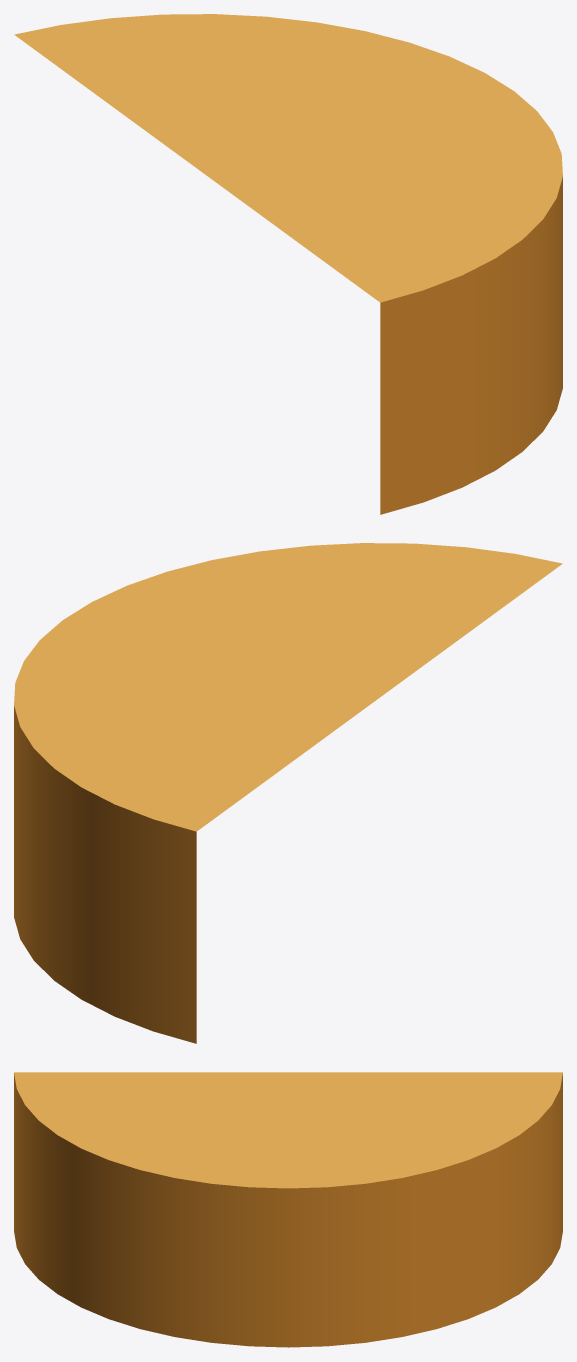
Rendered from tajada-zapallo.glb.
The picture shows the model from 3 angles, top to bottom: view 1: azimuth 30°, elevation 25°; view 2: azimuth 150°, elevation 25°; view 3: azimuth 270°, elevation 25°; orthographic projection. The views are drawn at different scales.
Parts seen in each view (by area): view 1: tajada; view 2: tajada; view 3: tajada.
Boxes of the visible parts, <box> form: tajada: <box>14,14,562,514</box>; tajada: <box>14,543,562,1043</box>; tajada: <box>14,1072,562,1347</box>.
Size of the model in its own units: 0.44 by 0.2813 by 0.88.
